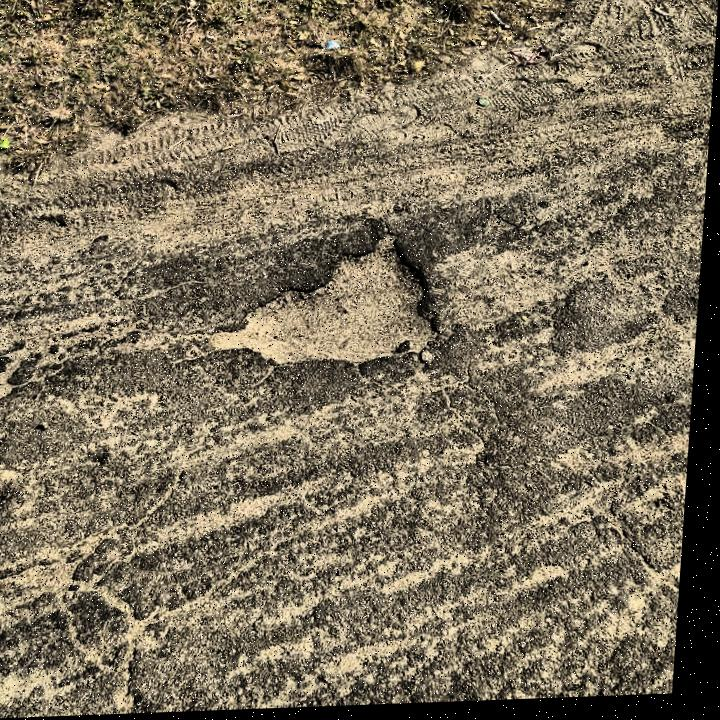pothole: (210, 226, 453, 377)
